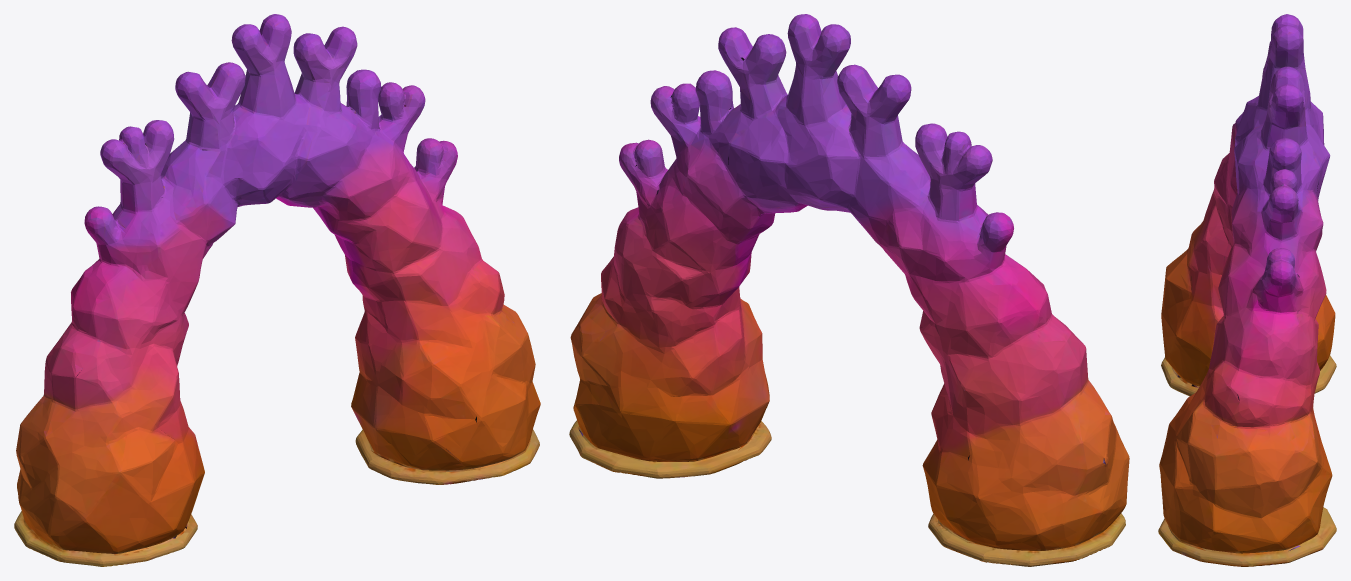
File: landmark.glb
3 renders of one model, left to right at view 1: azimuth 30°, elevation 25°; view 2: azimuth 150°, elevation 25°; view 3: azimuth 270°, elevation 25°, orthographic. The views are drawn at different scales.
Parts seen in each view (by area): view 1: landmark; view 2: landmark; view 3: landmark.
Part boxes in pixels (bbox=[...]): landmark: bbox=[14, 14, 540, 566]; landmark: bbox=[569, 14, 1129, 566]; landmark: bbox=[1158, 14, 1336, 566].
Size of the model in its own units: 29 by 25 by 9.31.
Materials: 1 (1 with a texture image).
